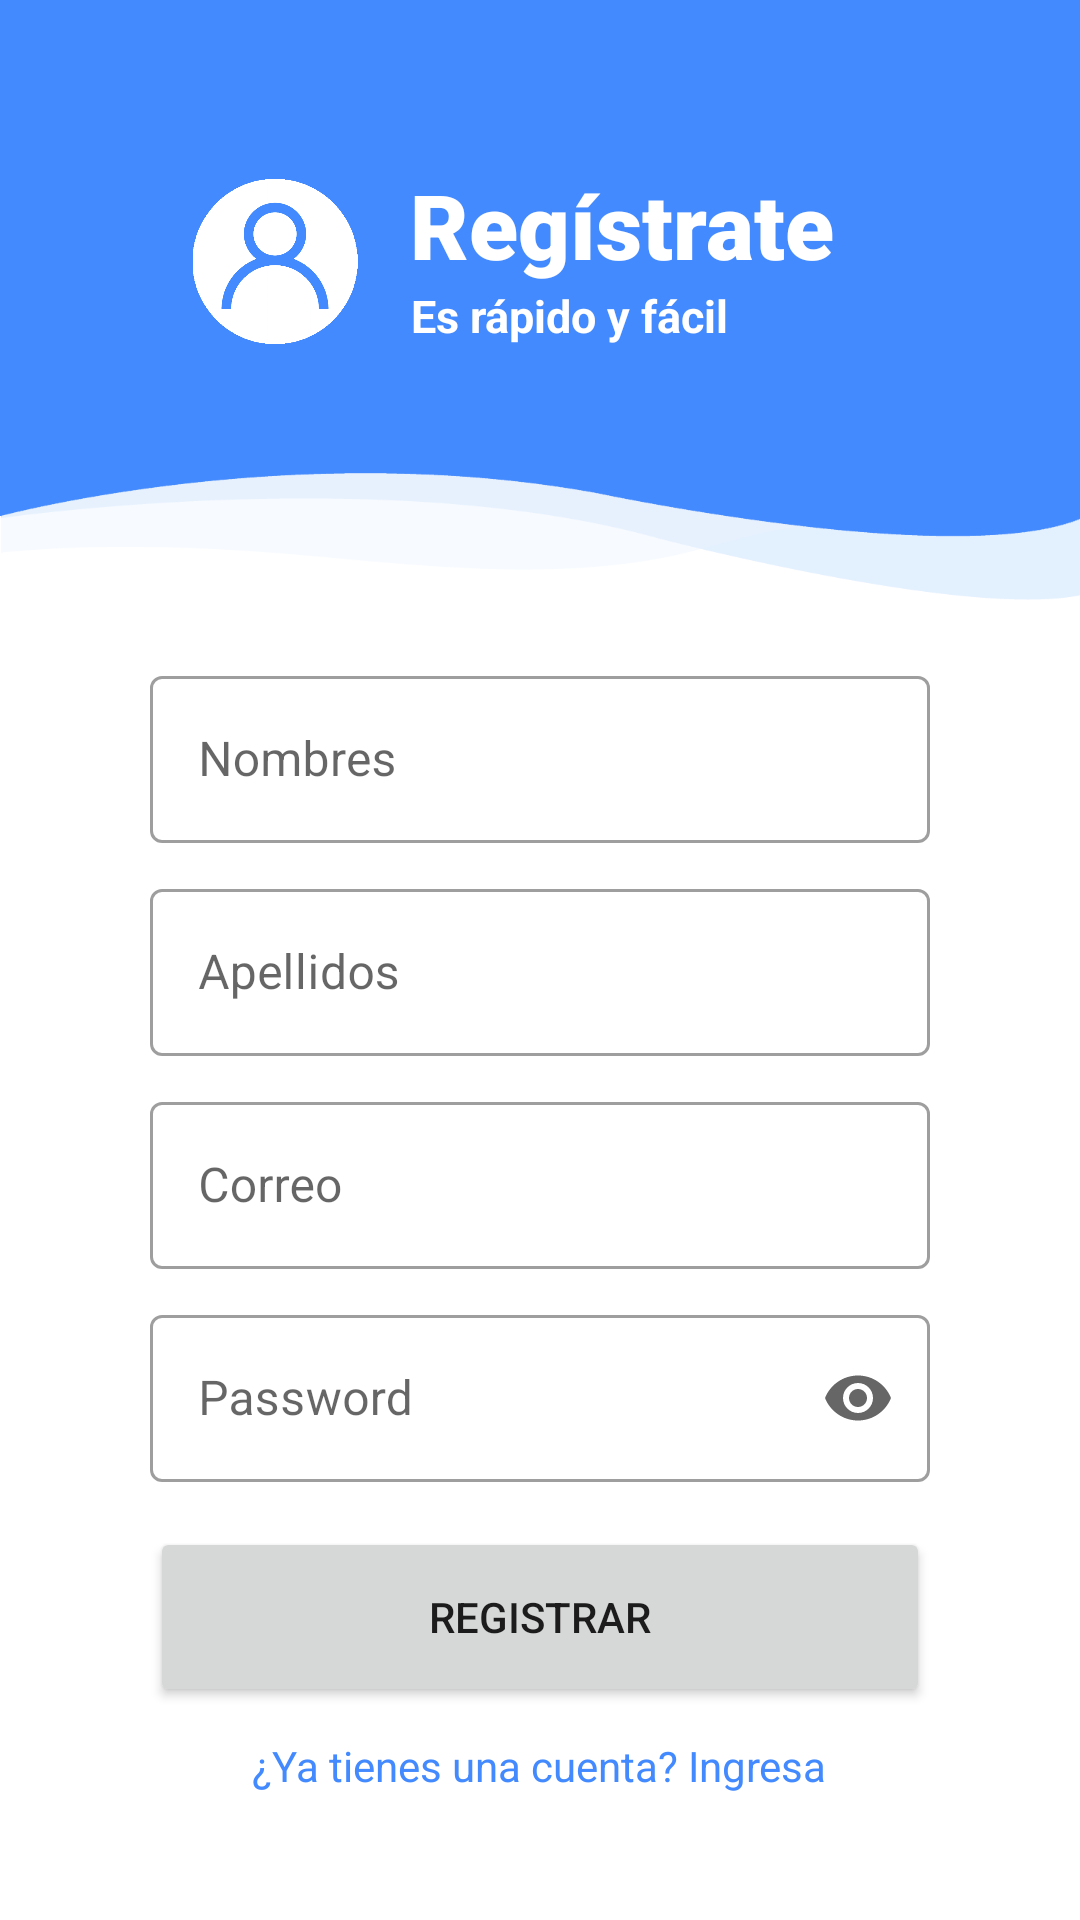

Screen size 1080 × 1920. Icon name, then its box in pixels as (x1, y1, x2, y2):
usuario: (193, 179, 358, 344)
